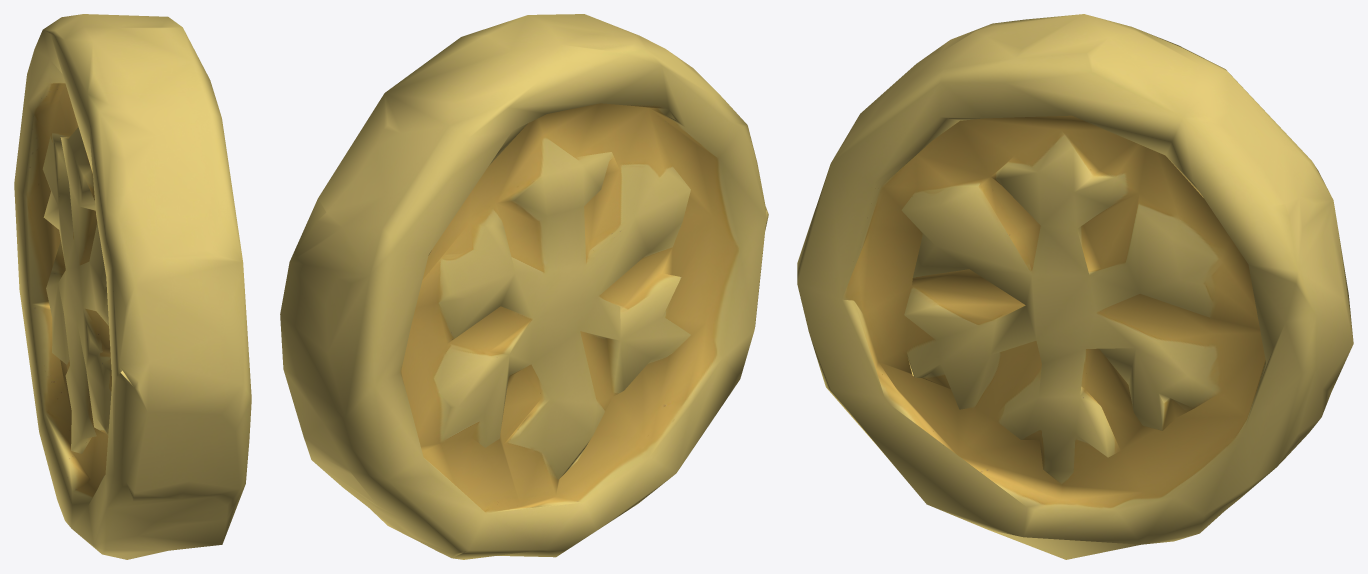
Rendered from coin.glb.
The picture shows the model from 3 angles, left to right: view 1: azimuth 30°, elevation 25°; view 2: azimuth 150°, elevation 25°; view 3: azimuth 270°, elevation 25°; orthographic projection.
Parts seen in each view (by area): view 1: tripo_node_7536821f-4c8e-4ff9-8dff-a2cf0c99af0f; view 2: tripo_node_7536821f-4c8e-4ff9-8dff-a2cf0c99af0f; view 3: tripo_node_7536821f-4c8e-4ff9-8dff-a2cf0c99af0f.
Part boxes in pixels (box(x1,y1,x2,y2)): tripo_node_7536821f-4c8e-4ff9-8dff-a2cf0c99af0f: box(14, 14, 251, 559); tripo_node_7536821f-4c8e-4ff9-8dff-a2cf0c99af0f: box(280, 14, 768, 559); tripo_node_7536821f-4c8e-4ff9-8dff-a2cf0c99af0f: box(797, 14, 1353, 559).
Size of the model in its own units: 0.5251 by 1 by 0.9984.
1 material, 1 textured.
